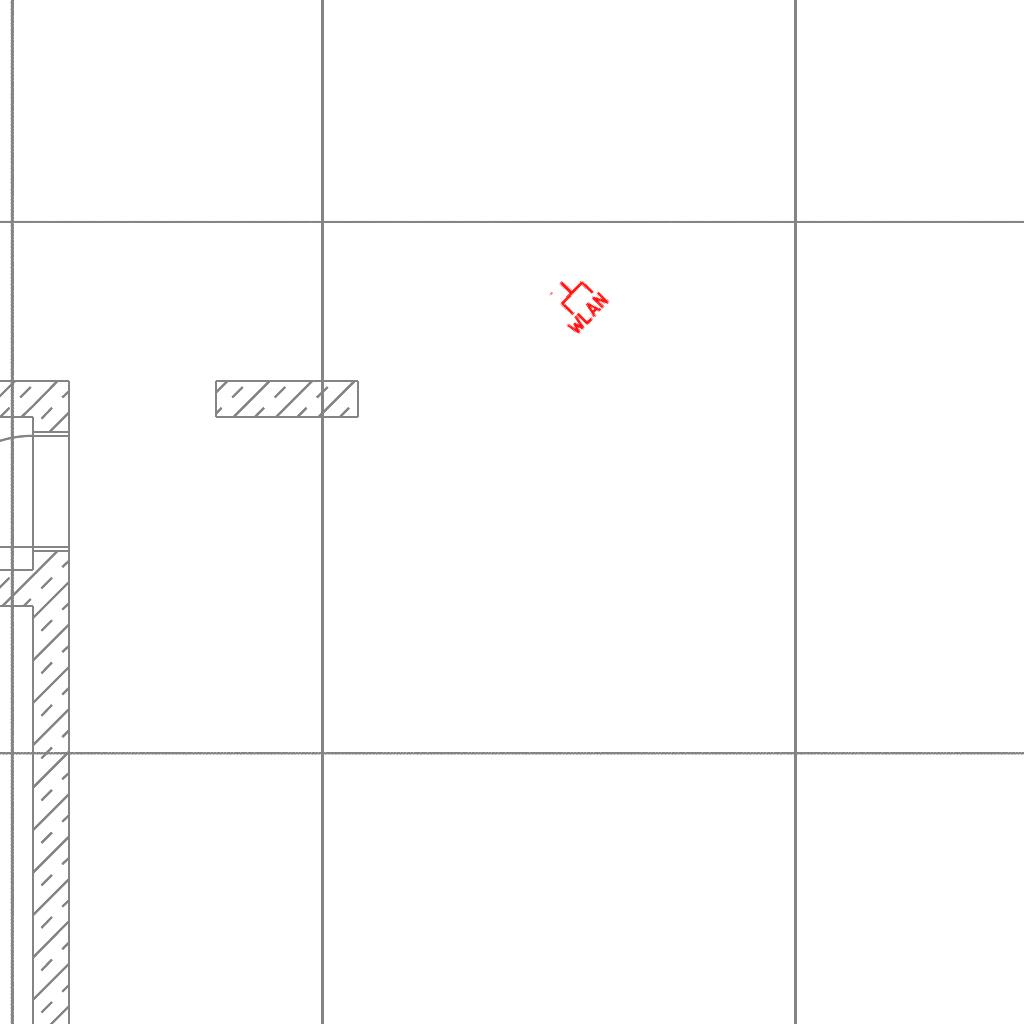WLAN: (538, 265, 612, 339)
